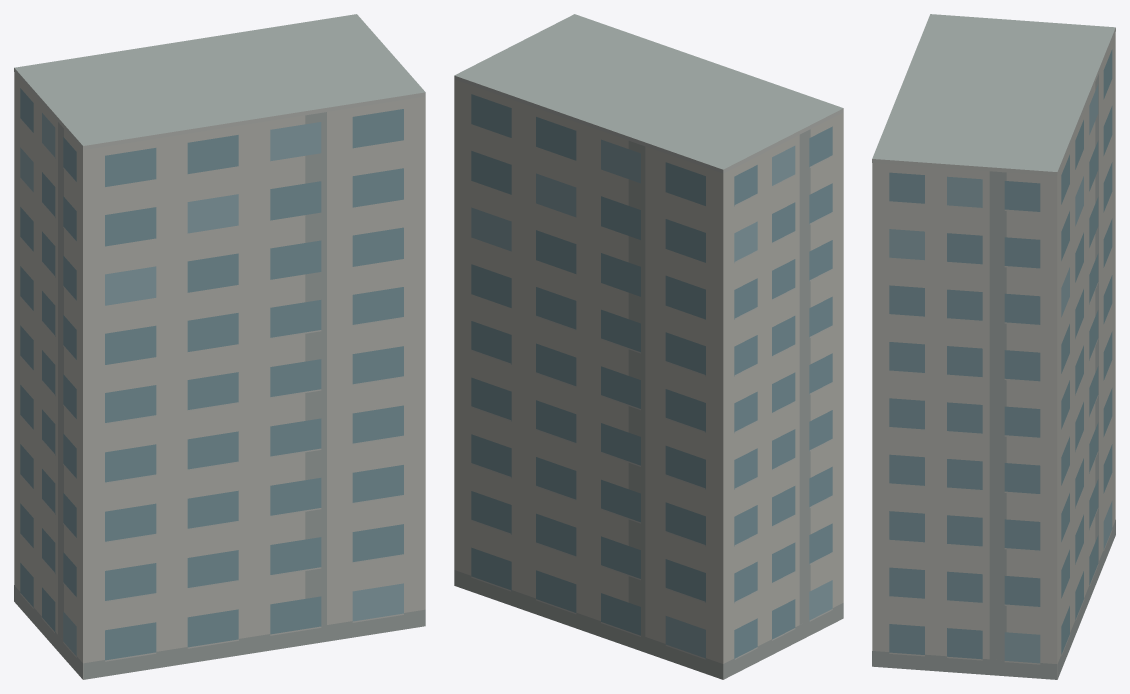
File: residential-d885ab40-3bd9-40e7-bd24-d3075cc4ee2a.glb
3 views of the same model, side by side, from view 1: azimuth 30°, elevation 25°; view 2: azimuth 150°, elevation 25°; view 3: azimuth 270°, elevation 25° (orthographic). The views are drawn at different scales.
Parts seen in each view (by area): view 1: residential-d885ab40-3bd9-40e7-bd24-d3075cc4ee2a.tmp; view 2: residential-d885ab40-3bd9-40e7-bd24-d3075cc4ee2a.tmp; view 3: residential-d885ab40-3bd9-40e7-bd24-d3075cc4ee2a.tmp.
Part boxes in pixels (left/top/right/bottom): residential-d885ab40-3bd9-40e7-bd24-d3075cc4ee2a.tmp: left=14, top=14, right=425, bottom=679; residential-d885ab40-3bd9-40e7-bd24-d3075cc4ee2a.tmp: left=454, top=14, right=843, bottom=679; residential-d885ab40-3bd9-40e7-bd24-d3075cc4ee2a.tmp: left=872, top=14, right=1115, bottom=679.
Size of the model in its own units: 20.71 by 31 by 13.49.
